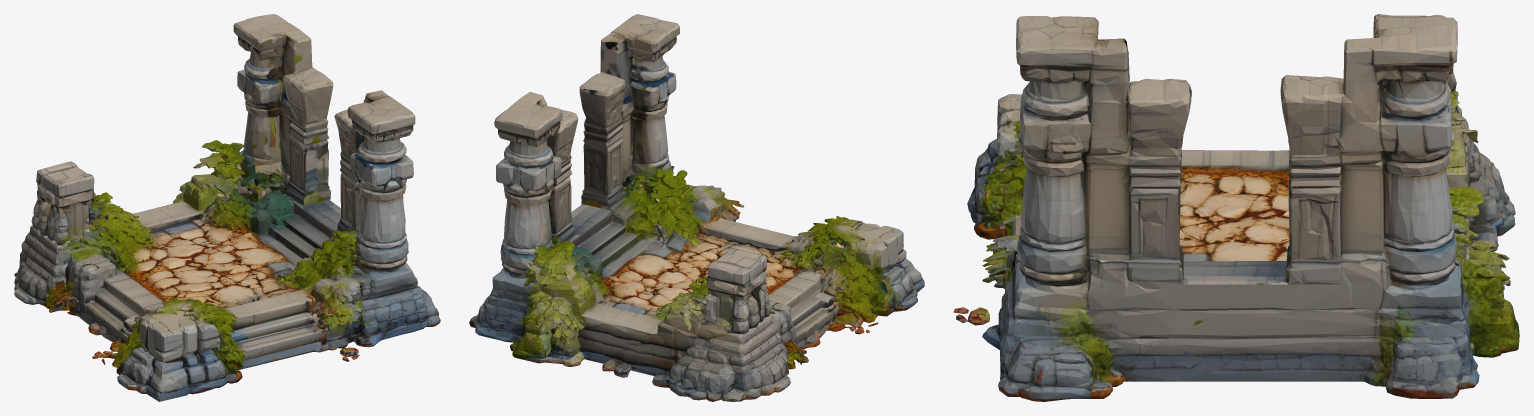
The model's file is broken-floor-debris-tile-optimized.glb.
3 views of the same model, side by side, from view 1: azimuth 30°, elevation 25°; view 2: azimuth 150°, elevation 25°; view 3: azimuth 270°, elevation 25° (orthographic). The views are drawn at different scales.
Parts seen in each view (by area): view 1: 66ee3c84-9f7f-4ff3-a34b-b5828cf91aca_texturing.obj; view 2: 66ee3c84-9f7f-4ff3-a34b-b5828cf91aca_texturing.obj; view 3: 66ee3c84-9f7f-4ff3-a34b-b5828cf91aca_texturing.obj.
Part boxes in pixels (bbox=[...]): 66ee3c84-9f7f-4ff3-a34b-b5828cf91aca_texturing.obj: bbox=[14, 14, 440, 401]; 66ee3c84-9f7f-4ff3-a34b-b5828cf91aca_texturing.obj: bbox=[469, 14, 924, 401]; 66ee3c84-9f7f-4ff3-a34b-b5828cf91aca_texturing.obj: bbox=[953, 14, 1519, 401].
Bounding box in the file's own units: 2 × 1.31 × 2.
Materials: 1 (1 with a texture image).
